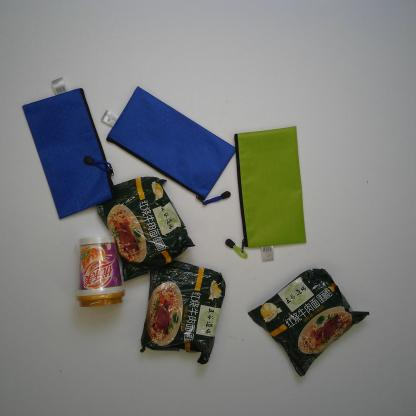Instant Drink: (74, 231, 131, 311)
Instant Noodles: (245, 267, 372, 378), (94, 174, 196, 283), (137, 253, 229, 368)
Stationery: (101, 83, 238, 207), (20, 77, 119, 222), (221, 123, 309, 263)
